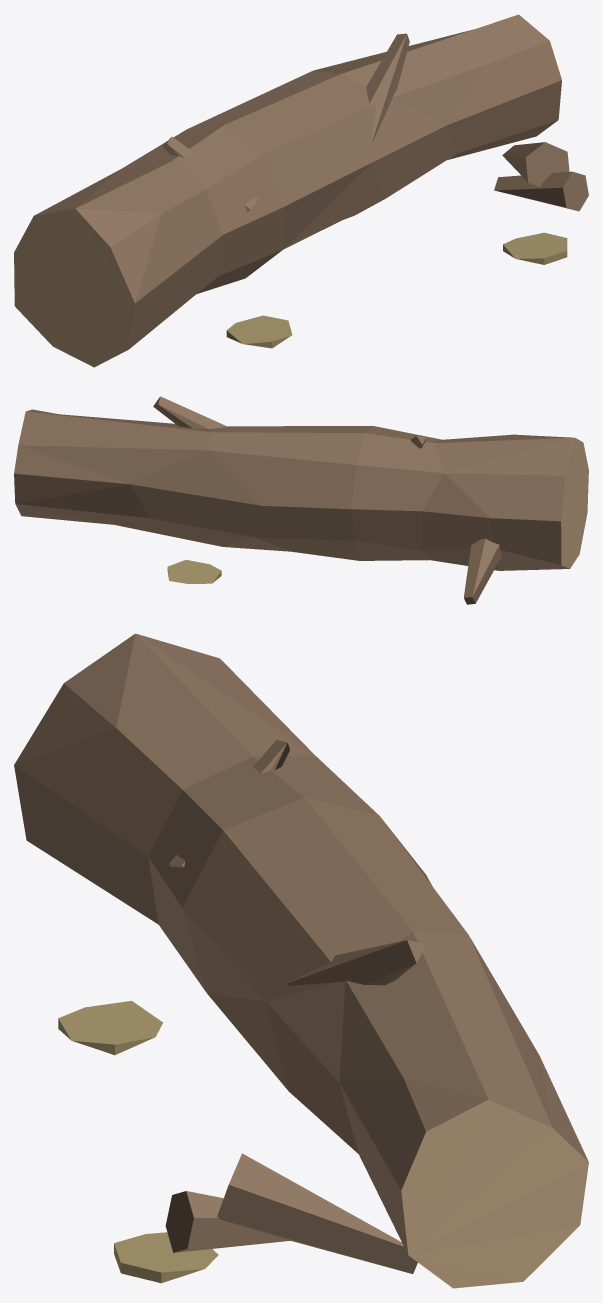
The model's file is 15-Recursos_tronco_caido.glb.
The picture shows the model from 3 angles, top to bottom: view 1: azimuth 30°, elevation 25°; view 2: azimuth 150°, elevation 25°; view 3: azimuth 270°, elevation 25°; orthographic projection. The views are drawn at different scales.
Parts seen in each view (by area): view 1: SM_Tronco_M_Corteza_Tronco_Madera_Corte, SM_Tronco_M_Corteza_Tronco, SM_Tronco_M_Hojarasca; view 2: SM_Tronco_M_Corteza_Tronco_Madera_Corte, SM_Tronco_M_Corteza_Tronco, SM_Tronco_M_Hojarasca; view 3: SM_Tronco_M_Corteza_Tronco_Madera_Corte, SM_Tronco_M_Corteza_Tronco, SM_Tronco_M_Hojarasca.
Boxes of the visible parts, <box> form: SM_Tronco_M_Corteza_Tronco_Madera_Corte: <box>14,14,561,367</box>; SM_Tronco_M_Corteza_Tronco: <box>163,33,588,212</box>; SM_Tronco_M_Hojarasca: <box>226,232,567,348</box>; SM_Tronco_M_Corteza_Tronco_Madera_Corte: <box>14,409,588,570</box>; SM_Tronco_M_Corteza_Tronco: <box>153,396,501,604</box>; SM_Tronco_M_Hojarasca: <box>167,560,221,583</box>; SM_Tronco_M_Corteza_Tronco_Madera_Corte: <box>14,633,588,1288</box>; SM_Tronco_M_Corteza_Tronco: <box>165,740,426,1273</box>; SM_Tronco_M_Hojarasca: <box>58,1000,218,1283</box>.
Bounding box in the file's own units: 3.23 × 0.9121 × 1.71.
